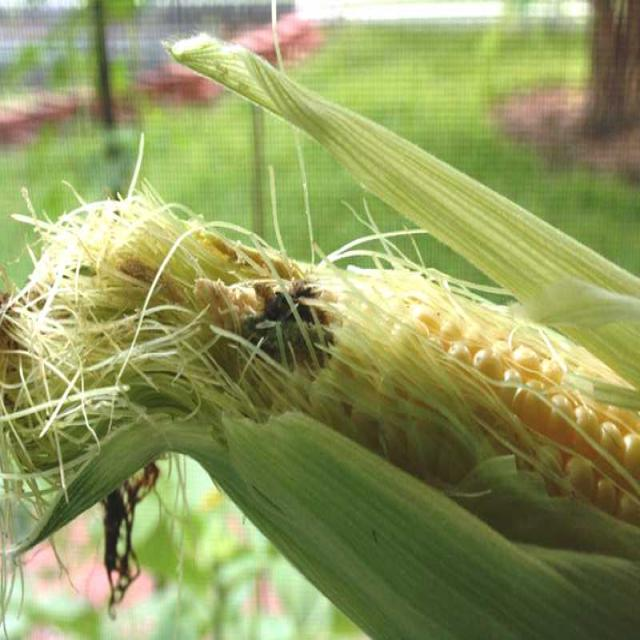Corn-earworm: (236, 276, 319, 341)
